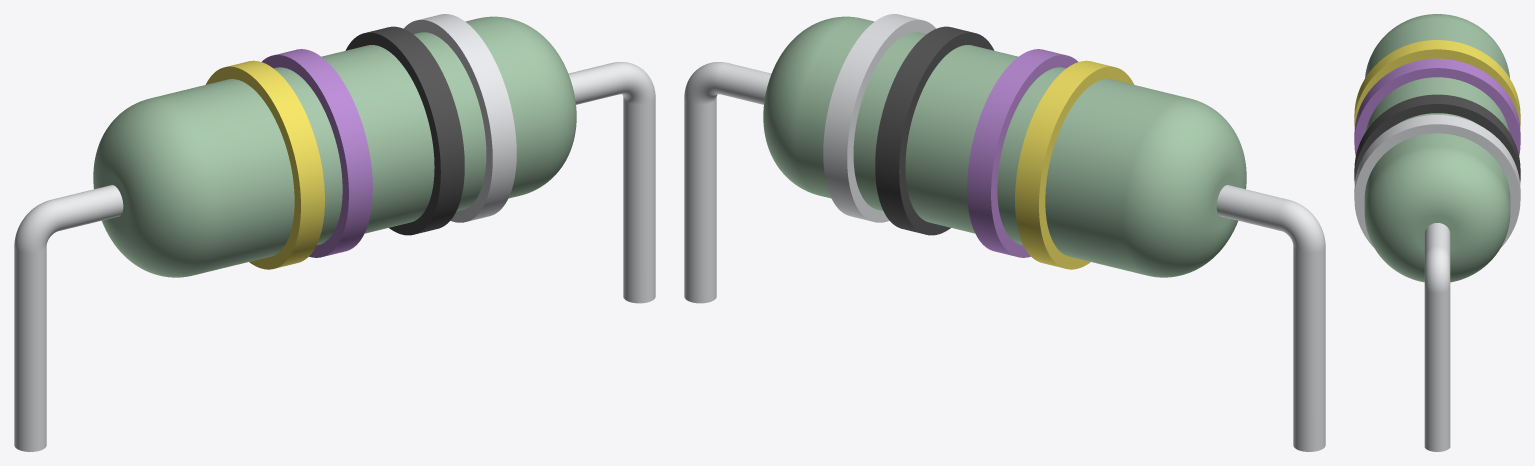
File: axial_inductor_l11_true_scale.glb
3 renders of one model, left to right at view 1: azimuth 30°, elevation 25°; view 2: azimuth 150°, elevation 25°; view 3: azimuth 270°, elevation 25°, orthographic. The views are drawn at different scales.
Parts seen in each view (by area): view 1: coat, lead_L, lead_R, band_3, band_1, band_4, band_2; view 2: coat, lead_L, lead_R, band_3, band_1, band_4, band_2; view 3: coat, lead_R, band_4, band_2, band_3, band_1.
Part boxes in pixels (box(x1,y1,x2,y2)): coat: box(93, 16, 576, 277); lead_L: box(14, 185, 123, 451); lead_R: box(568, 62, 655, 303); band_3: box(345, 26, 464, 235); band_1: box(205, 60, 324, 269); band_4: box(403, 14, 516, 222); band_2: box(262, 49, 372, 257); coat: box(763, 16, 1246, 277); lead_L: box(1216, 185, 1325, 451); lead_R: box(684, 62, 771, 303); band_3: box(875, 26, 994, 235); band_1: box(1015, 60, 1134, 269); band_4: box(823, 14, 936, 222); band_2: box(967, 49, 1077, 257); coat: box(1364, 14, 1510, 282); lead_R: box(1424, 223, 1450, 451); band_4: box(1354, 115, 1520, 247); band_2: box(1354, 58, 1520, 155); band_3: box(1354, 94, 1520, 182); band_1: box(1354, 40, 1520, 126).
Size of the model in its own units: 15.94 by 7.6 by 4.5.
